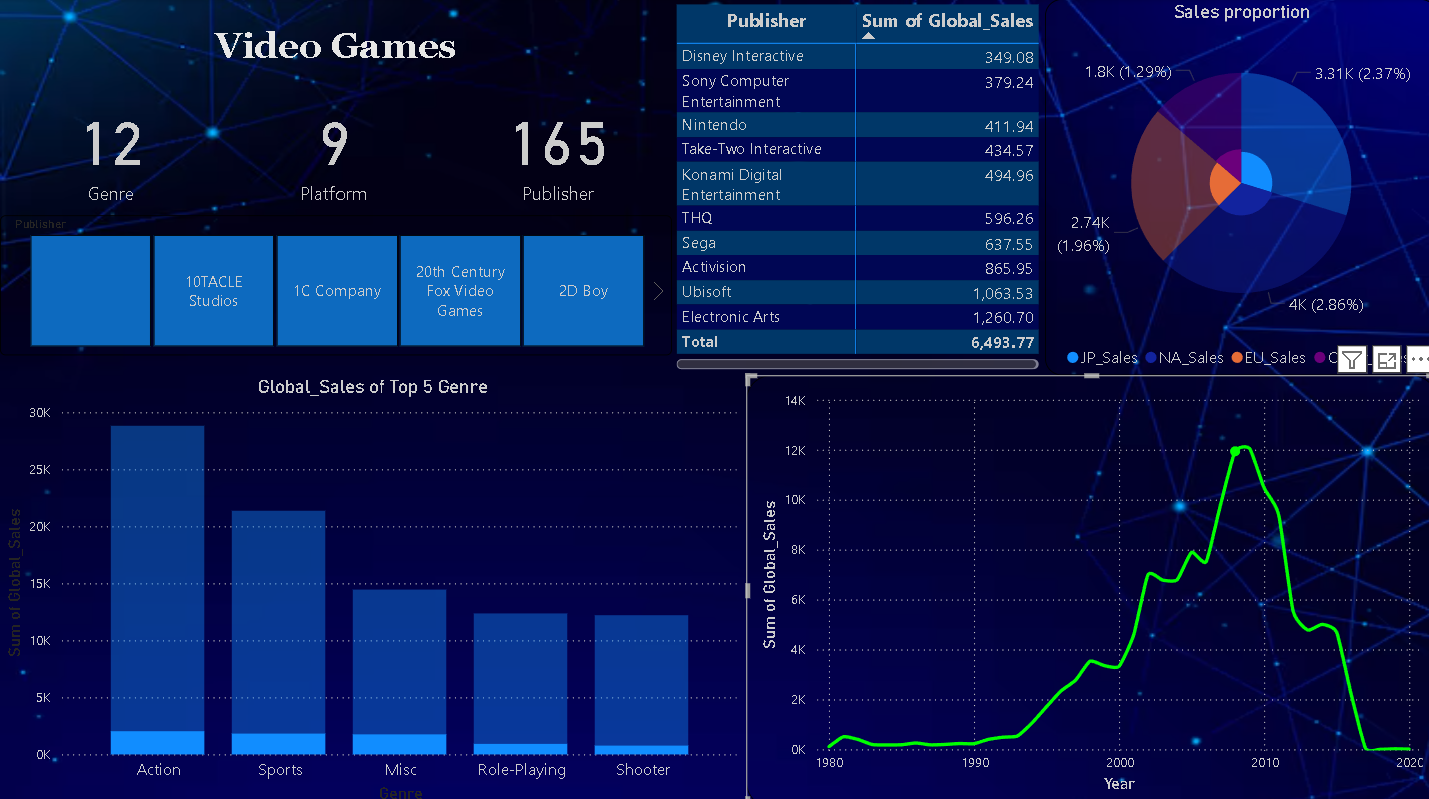

The dashboard page shown, as its layout file describes it:
{"tool":"powerbi","page":{"name":"Page 1","canvas":[1280,720],"ordinal":0},"visuals":[{"type":"lineChart","fields":{"Category":["video_games.Year"],"Y":["Sum(video_games.Global_Sales)"]},"box":[664.2,334.8,616.1,385.6],"z":0},{"type":"pieChart","title":"Sales proportion","fields":{"Y":["Sum(video_games.JP_Sales)","Sum(video_games.NA_Sales)","Sum(video_games.EU_Sales)","Sum(video_games.Other_Sales)"]},"box":[930.4,0,349.9,334.8],"z":1000},{"type":"columnChart","title":"Global_Sales of Top 5 Genre","fields":{"Category":["video_games.Genre"],"Y":["Sum(video_games.Global_Sales)"]},"box":[0,334.8,664.2,385.6],"z":2000},{"type":"card","fields":{"Values":["Count(video_games.Genre)"]},"box":[0,74.1,199,118],"z":3000},{"type":"card","fields":{"Values":["Count(video_games.Platform)"]},"box":[199,74.1,197.6,118],"z":4000},{"type":"card","fields":{"Values":["Count(video_games.Publisher)"]},"box":[396.6,74.1,201.7,118],"z":5000},{"type":"slicer","fields":{"Values":["video_games.Publisher"]},"box":[0,192.1,598.3,124.9],"z":6000},{"type":"textbox","box":[0,0,598.3,74.1],"z":7000},{"type":"pivotTable","title":"             ","fields":{"Rows":["video_games.Publisher"],"Values":["Sum(video_games.Global_Sales)"]},"box":[598.3,0,332.1,334.8],"z":8000}]}

Visuals, with their boxes in screenshot pixels (x1, y1, x2, y2), scaled from the page's 1280x720 canvas onto the 1429x799 screenshot:
lineChart - video_games.Year x Sum(video_games.Global_Sales): bbox(742, 372, 1428, 798)
"Sales proportion" pieChart: bbox(1039, 0, 1428, 372)
"Global_Sales of Top 5 Genre" columnChart: bbox(0, 372, 742, 798)
card - Count(video_games.Genre): bbox(0, 82, 222, 213)
card - Count(video_games.Platform): bbox(222, 82, 443, 213)
card - Count(video_games.Publisher): bbox(443, 82, 668, 213)
slicer - video_games.Publisher: bbox(0, 213, 668, 352)
textbox: bbox(0, 0, 668, 82)
"             " pivotTable: bbox(668, 0, 1039, 372)
